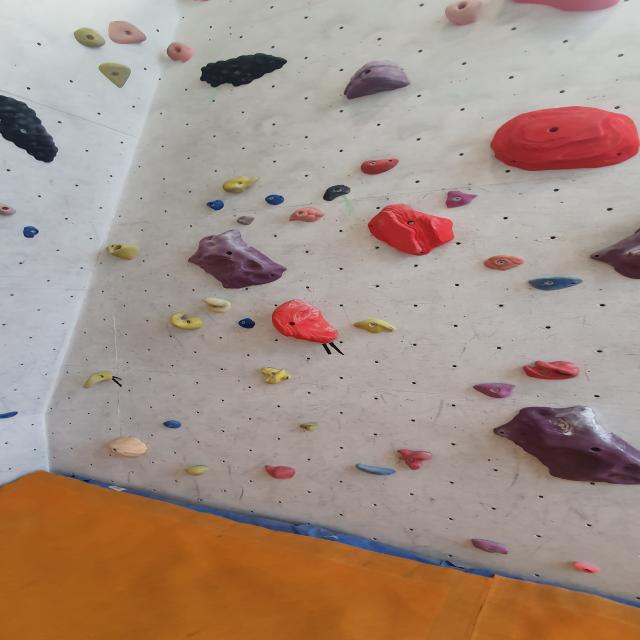Crimp: (483, 405, 640, 489), (521, 274, 584, 290), (469, 381, 516, 401), (351, 317, 400, 336), (444, 188, 482, 209), (469, 536, 511, 555), (354, 461, 397, 478), (482, 253, 528, 268), (183, 463, 210, 478), (574, 560, 600, 575), (260, 192, 290, 205), (20, 224, 43, 240), (201, 200, 233, 210), (298, 421, 323, 432), (0, 411, 21, 422), (235, 214, 256, 225), (163, 420, 185, 430), (238, 318, 256, 330)
Jug: (0, 95, 62, 167), (197, 52, 290, 90), (106, 20, 149, 48), (72, 25, 111, 51), (95, 61, 135, 86), (396, 448, 437, 471), (166, 310, 206, 332), (80, 370, 122, 390), (163, 40, 196, 63), (258, 365, 291, 385), (202, 297, 230, 313)
Pinch: (440, 0, 486, 28), (356, 157, 405, 176), (220, 175, 262, 194)
Pocket: (519, 359, 583, 380), (100, 243, 143, 261)
Sloper: (484, 106, 640, 174), (180, 227, 290, 287), (362, 202, 461, 257), (268, 298, 346, 347), (340, 58, 416, 101), (106, 437, 150, 460), (258, 461, 304, 482), (288, 207, 327, 224)
